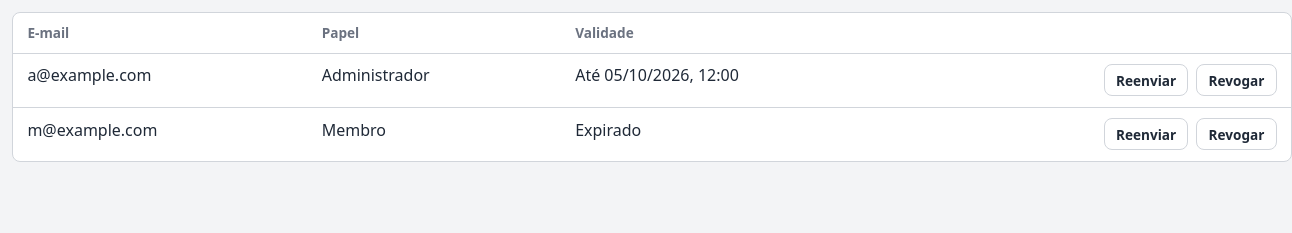
Test: PendingInvitations › resends and revokes, reporting cooldown messages
Click the button "Reenviar" in the row of "a@example.com" at (1146,80), box [1104,64,1188,96]
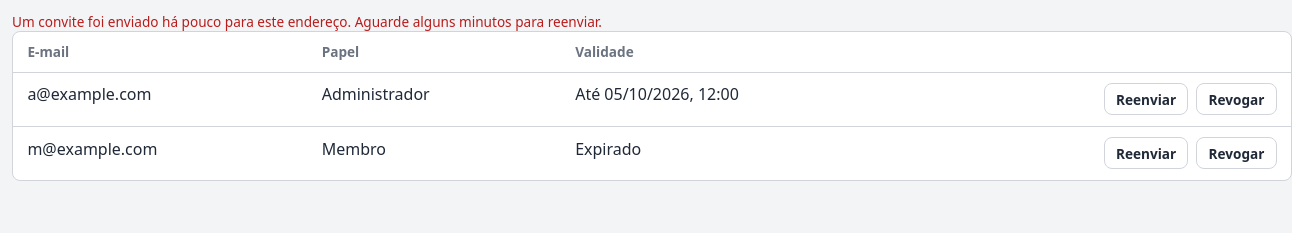
Expected: the message shows "Aguarde alguns minutos", [12,12,602,31]
Click the button "Revogar" in the row of "m@example.com" at (1237,153), box [1196,137,1277,169]
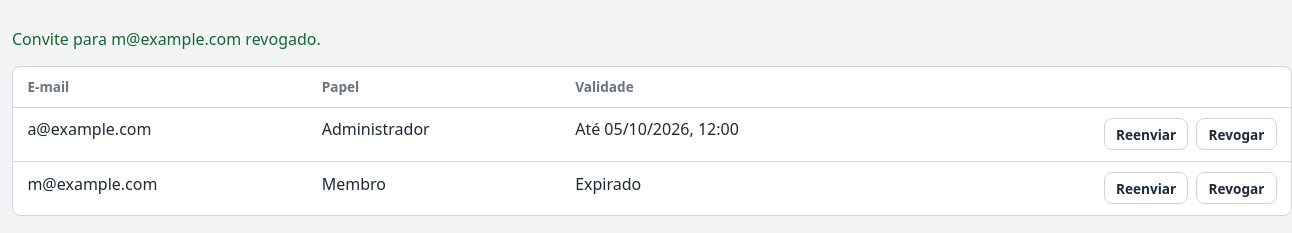
Expected: the message reads "Convite para m@example.com revogado.", [12,28,321,50]
